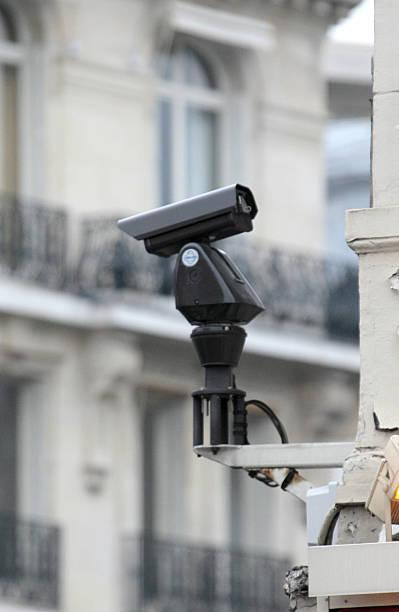camera: (97, 170, 280, 263)
